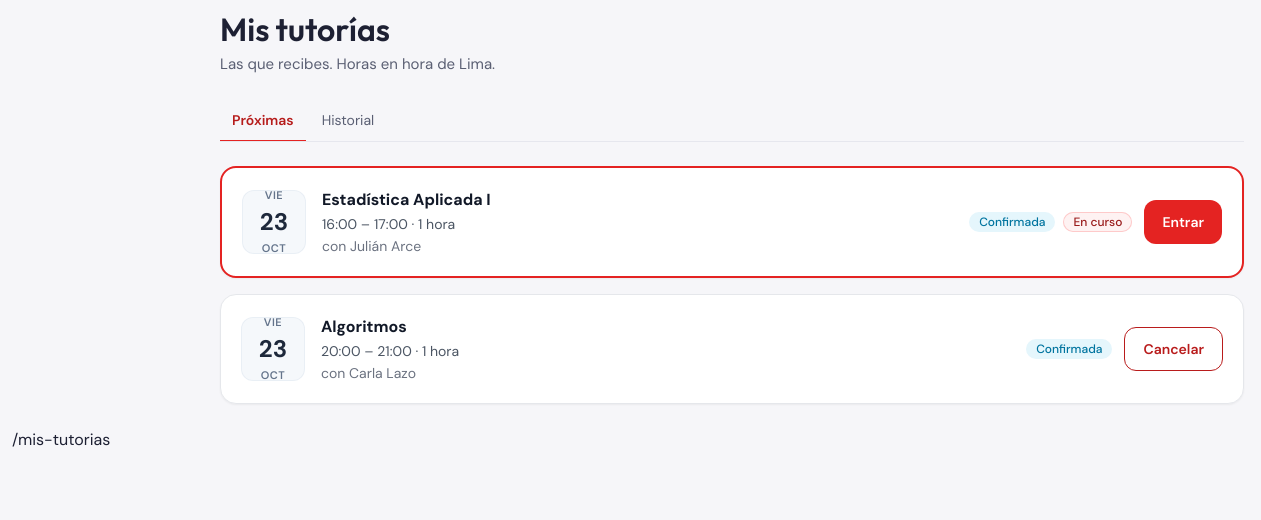
Test: FE-12 MyTutoringsPage › cancels immediately (204) when cancelling outside 12 hours
Click the button "Cancelar" at (1174, 348), box [1124, 326, 1223, 370]
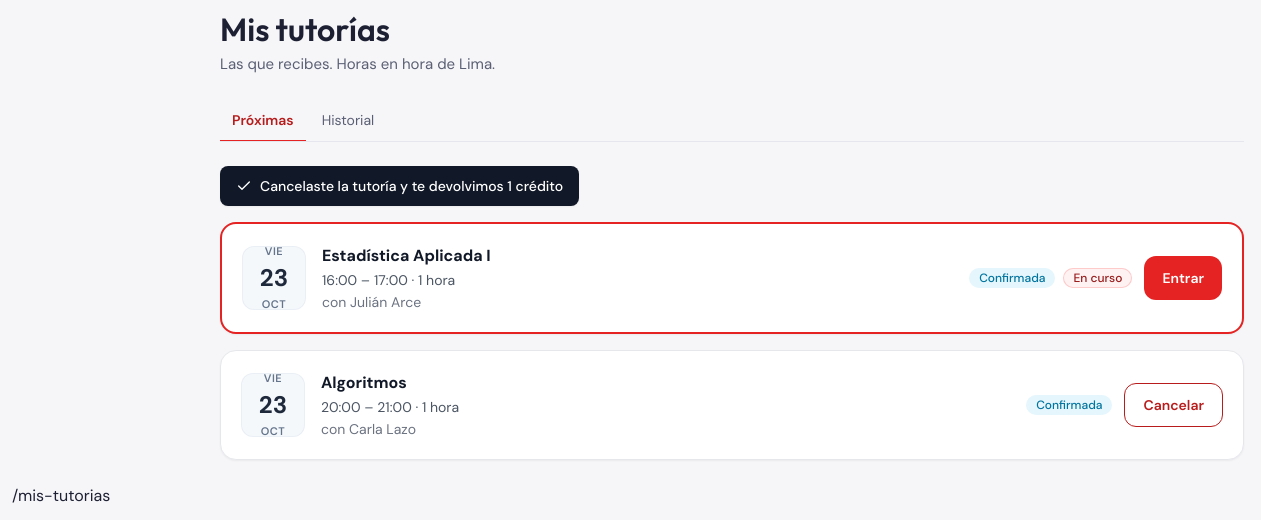
Expected: the text "Cancelaste la tutoría y te devolvimos 1 crédito" is shown, [260, 176, 563, 196]
